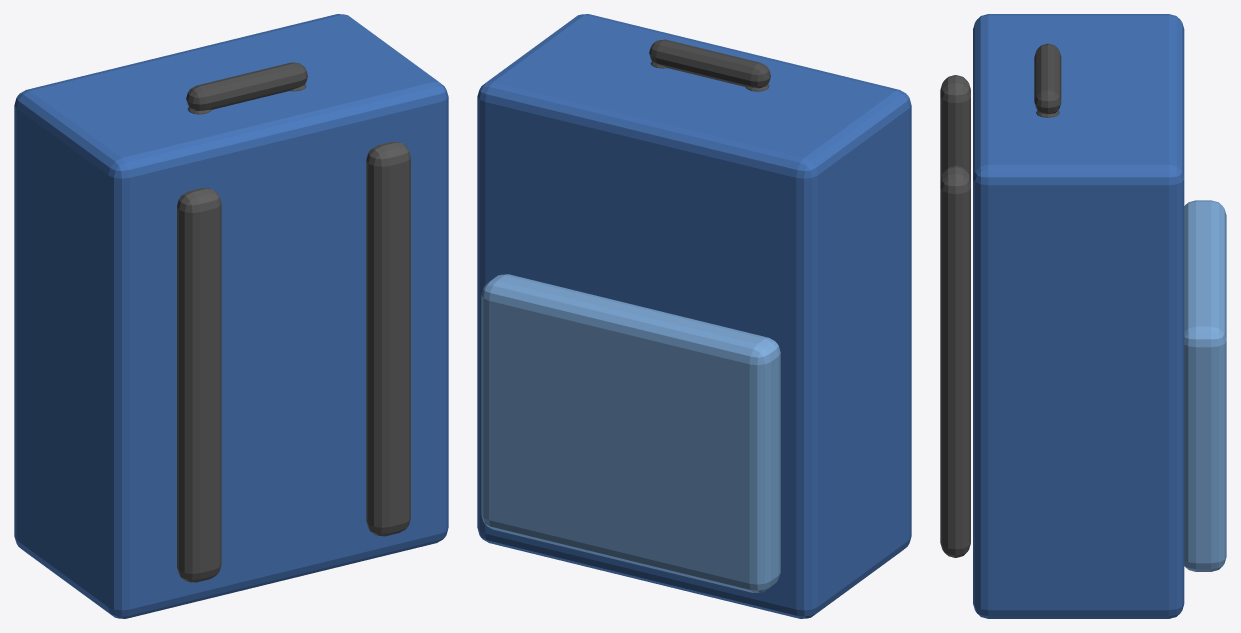
Rendered from Backpack.fbx.
3 views of the same model, side by side, from view 1: azimuth 30°, elevation 25°; view 2: azimuth 150°, elevation 25°; view 3: azimuth 270°, elevation 25° (orthographic).
Parts seen in each view (by area): view 1: Body, StrapL, StrapR, Handle; view 2: Body, Pocket, Handle; view 3: Body, Pocket, StrapR, StrapL, Handle.
Part boxes in pixels (bbox=[...]): Body: bbox=[14, 14, 448, 618]; StrapL: bbox=[177, 188, 221, 582]; StrapR: bbox=[366, 142, 410, 536]; Handle: bbox=[186, 62, 307, 110]; Body: bbox=[477, 14, 911, 618]; Pocket: bbox=[481, 274, 780, 592]; Handle: bbox=[649, 39, 770, 88]; Body: bbox=[973, 14, 1184, 618]; Pocket: bbox=[1184, 200, 1226, 571]; StrapR: bbox=[940, 165, 970, 557]; StrapL: bbox=[940, 75, 970, 180]; Handle: bbox=[1034, 43, 1061, 114].
Size of the model in its own units: 100 by 137 by 74.5.
